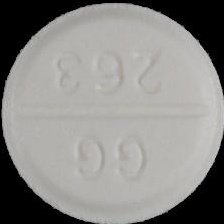64205-506: (0, 0, 224, 224)
